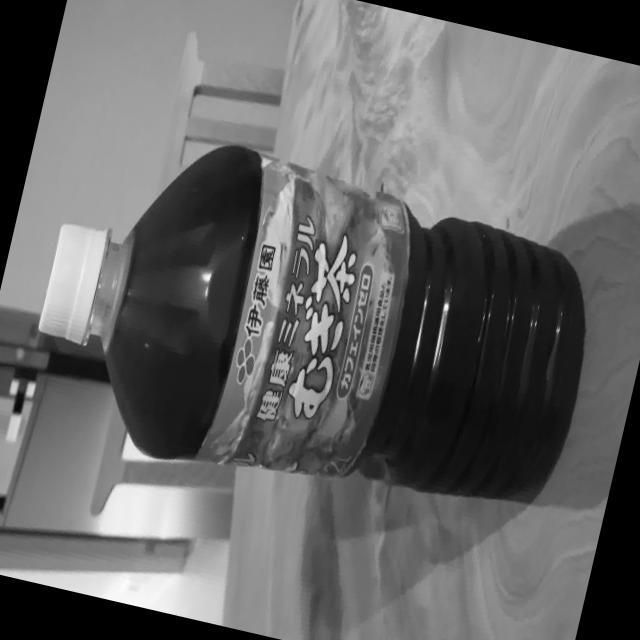good: (11, 104, 614, 546)
